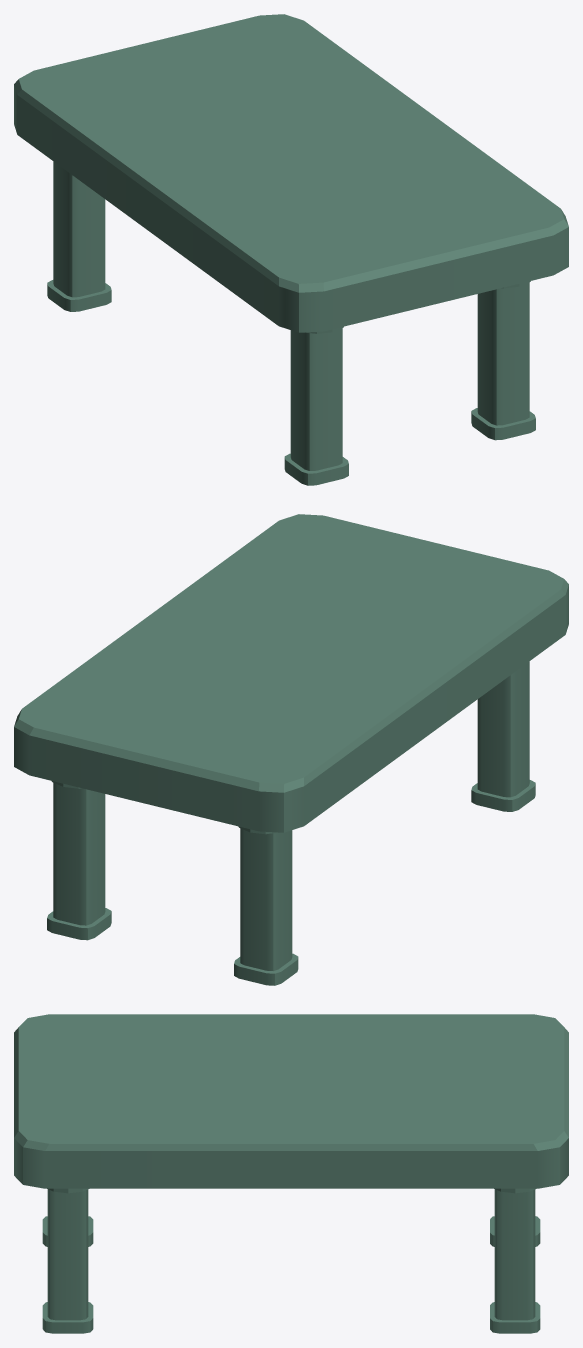
File: long_table.fbx
3 renders of one model, top to bottom at view 1: azimuth 30°, elevation 25°; view 2: azimuth 150°, elevation 25°; view 3: azimuth 270°, elevation 25°, orthographic. The views are drawn at different scales.
Parts seen in each view (by area): view 1: pCube7; view 2: pCube7; view 3: pCube7.
Part boxes in pixels (left/top/right/bottom): pCube7: left=14, top=14, right=568, bottom=485; pCube7: left=14, top=514, right=568, bottom=985; pCube7: left=14, top=1014, right=568, bottom=1333.
Size of the model in its own units: 7.68 by 5.46 by 13.66.
